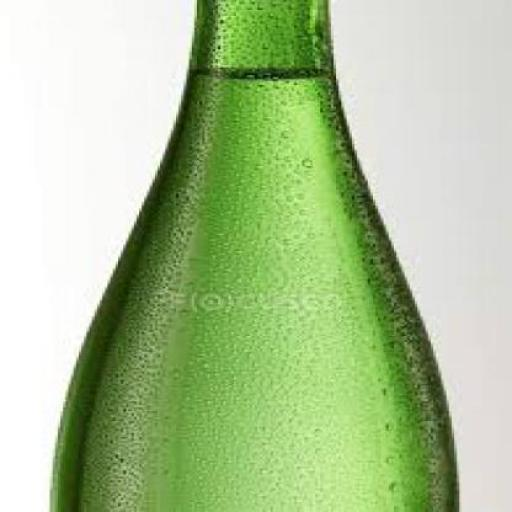glass: (47, 0, 458, 511)
